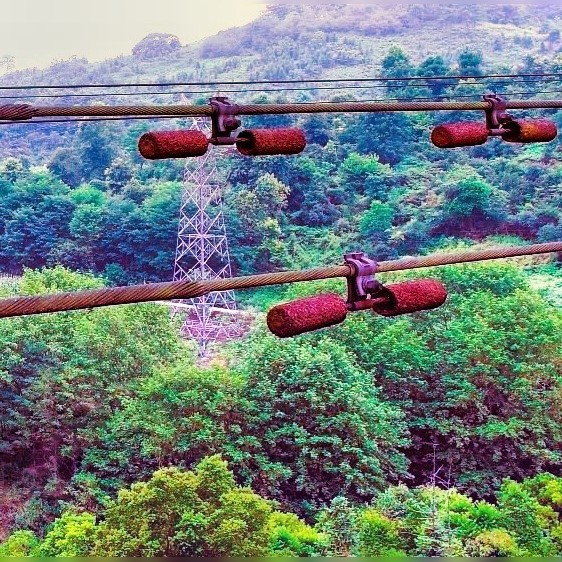Shockproof hammer: (256, 242, 452, 345), (128, 89, 316, 160), (426, 87, 559, 153)
